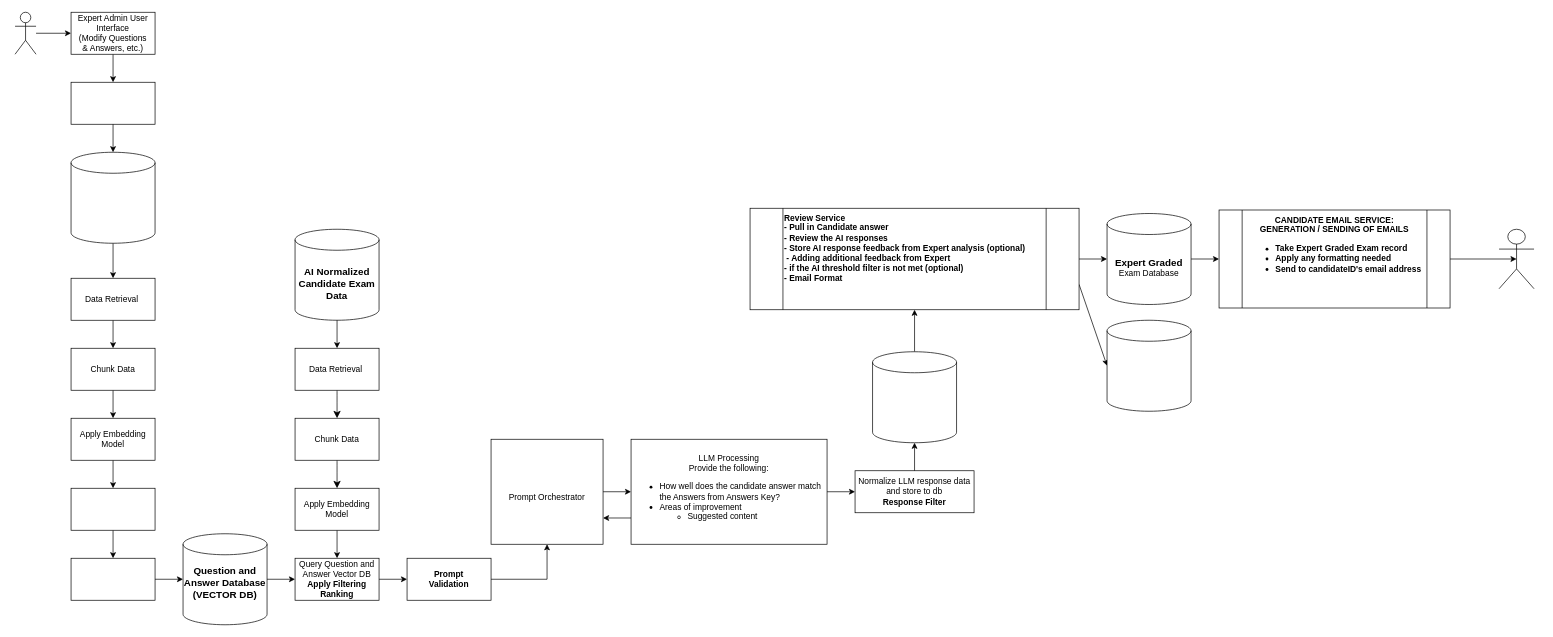
The diagram is 1553 pixels wide and 637 high, and some of its shapes have lost their labels. Here are the shapes that lost their labels. From the top down, the centre of each, then its label:
(25,33): ADMIN
(112,103): Aptitude Test Maintenance Service (Update/Modify/etc.)
(112,197): Apititude Test Database (Raw Questions and Answers )
(1516,259): CANDIDATE
(1148,365): AI Response Feedback
(914,397): AI GRADED CANDIDATE DATABASE
(112,509): Index Data
(112,579): Add / Upsert / Delete data to VectorDB
